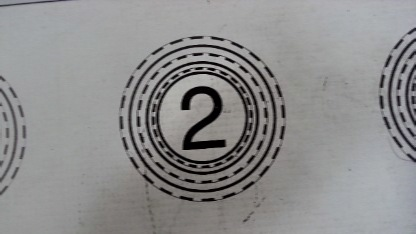2r: (117, 36, 287, 201)
